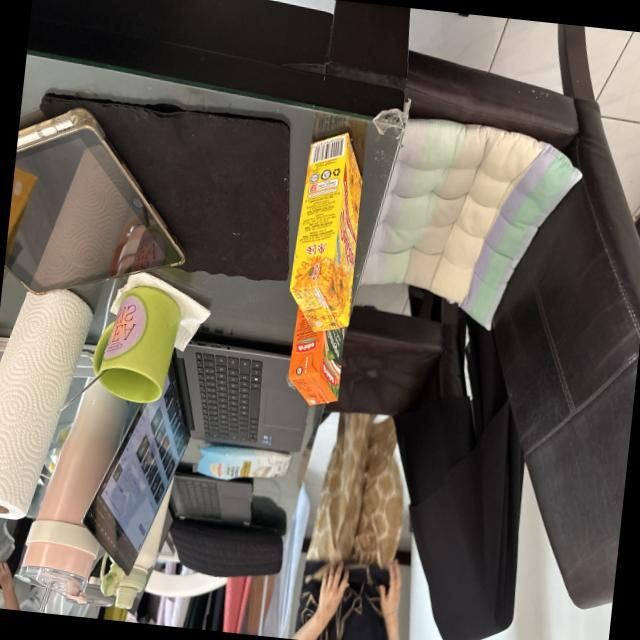drink_carton: (278, 123, 374, 345), (278, 304, 354, 419)
